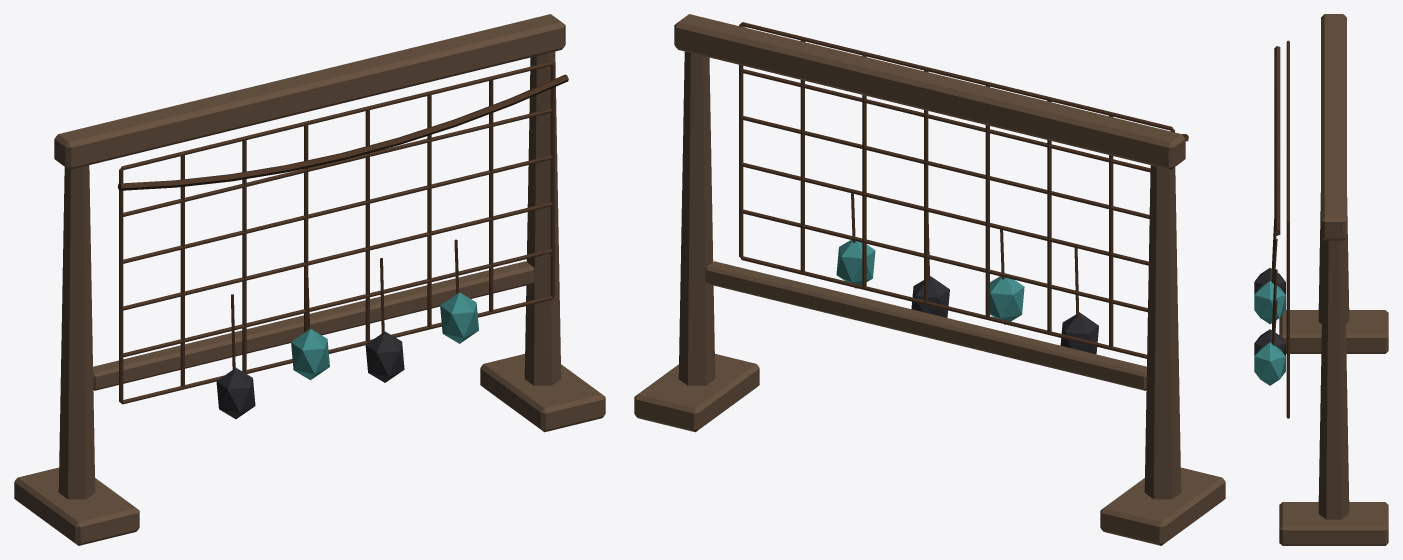
The model's file is prop_fishing_net_rack_a.glb.
3 renders of one model, left to right at view 1: azimuth 30°, elevation 25°; view 2: azimuth 150°, elevation 25°; view 3: azimuth 270°, elevation 25°, orthographic. The views are drawn at different scales.
Parts seen in each view (by area): view 1: prop_fishing_net_rack_a_rack_material_00, prop_fishing_net_rack_a_rack_material_01, prop_fishing_net_rack_a_rack_material_02, prop_fishing_net_rack_a_rack_material_03; view 2: prop_fishing_net_rack_a_rack_material_00, prop_fishing_net_rack_a_rack_material_01, prop_fishing_net_rack_a_rack_material_03, prop_fishing_net_rack_a_rack_material_02; view 3: prop_fishing_net_rack_a_rack_material_00, prop_fishing_net_rack_a_rack_material_01, prop_fishing_net_rack_a_rack_material_03, prop_fishing_net_rack_a_rack_material_02.
Boxes of the visible parts, x1,y1,x2,y2 form: prop_fishing_net_rack_a_rack_material_00: [14, 14, 605, 545]; prop_fishing_net_rack_a_rack_material_01: [117, 61, 568, 404]; prop_fishing_net_rack_a_rack_material_02: [216, 331, 404, 419]; prop_fishing_net_rack_a_rack_material_03: [291, 292, 478, 380]; prop_fishing_net_rack_a_rack_material_00: [634, 14, 1225, 545]; prop_fishing_net_rack_a_rack_material_01: [739, 22, 1188, 358]; prop_fishing_net_rack_a_rack_material_03: [836, 240, 1024, 324]; prop_fishing_net_rack_a_rack_material_02: [911, 276, 1098, 354]; prop_fishing_net_rack_a_rack_material_00: [1279, 14, 1388, 545]; prop_fishing_net_rack_a_rack_material_01: [1271, 40, 1289, 418]; prop_fishing_net_rack_a_rack_material_03: [1254, 281, 1285, 385]; prop_fishing_net_rack_a_rack_material_02: [1254, 268, 1285, 355].
Size of the model in its own units: 2.79 by 1.92 by 0.7246.
